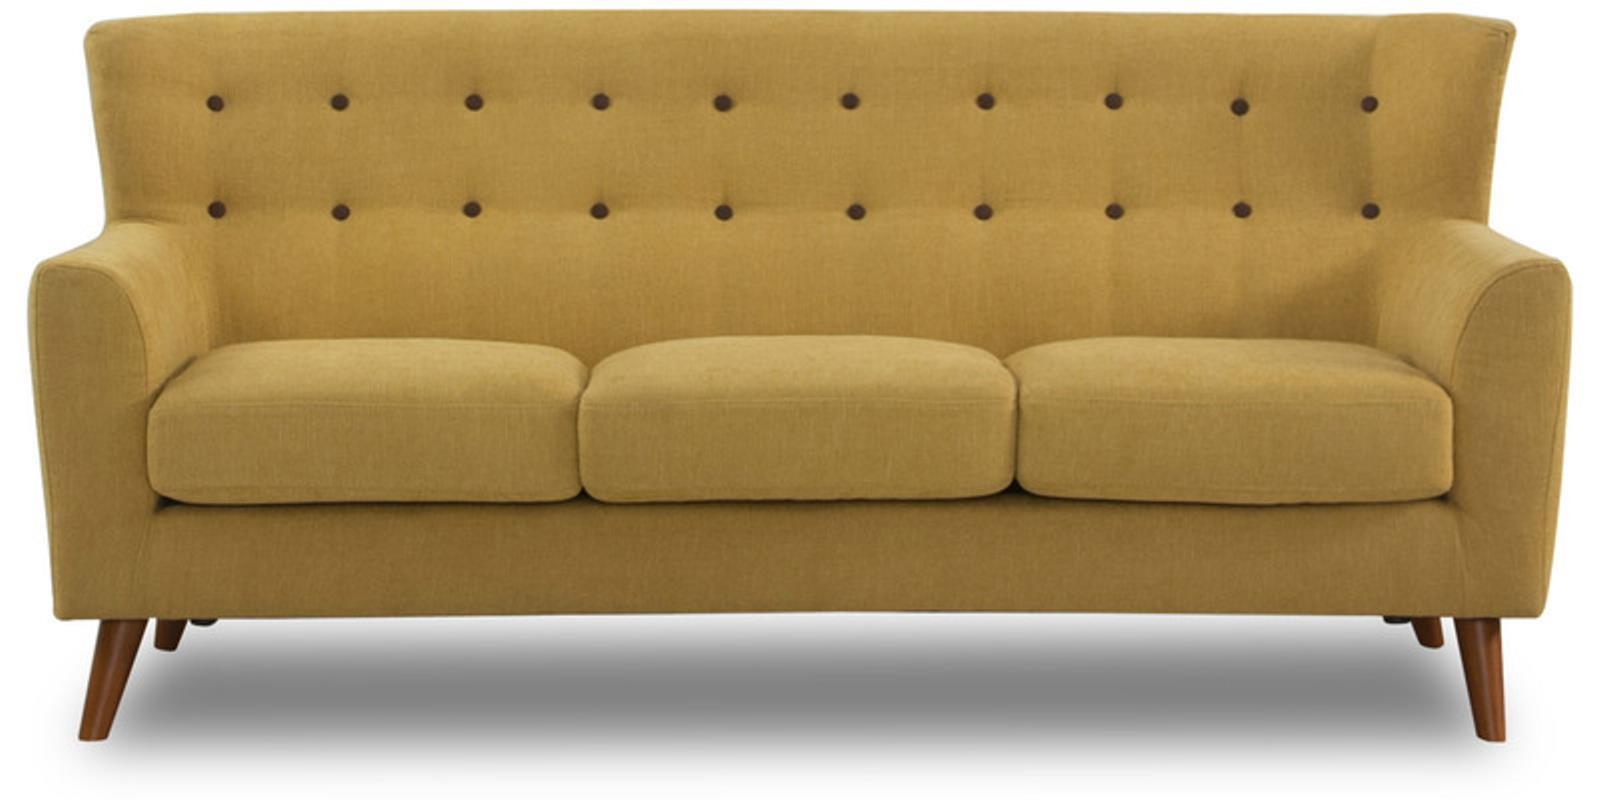Havana Three Seater Sofa in Ochre Colour by CasaCraft: (19, 1, 1585, 766)
